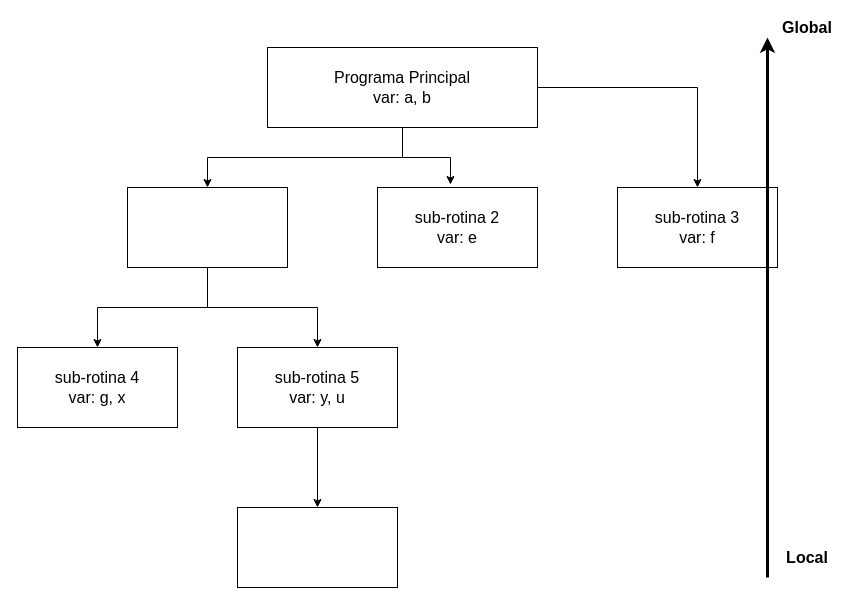
Some shapes in this 850 by 605 pixel diagram are drawn without their labels. The shapes that lost their labels are listed below. From the top down, each one's box as (x1, y1, x2, y2) in pixels, then its label:
(126, 186, 288, 268): sub-rotina 1 var: c, d
(236, 506, 398, 588): sub-rotina 6 var: r
